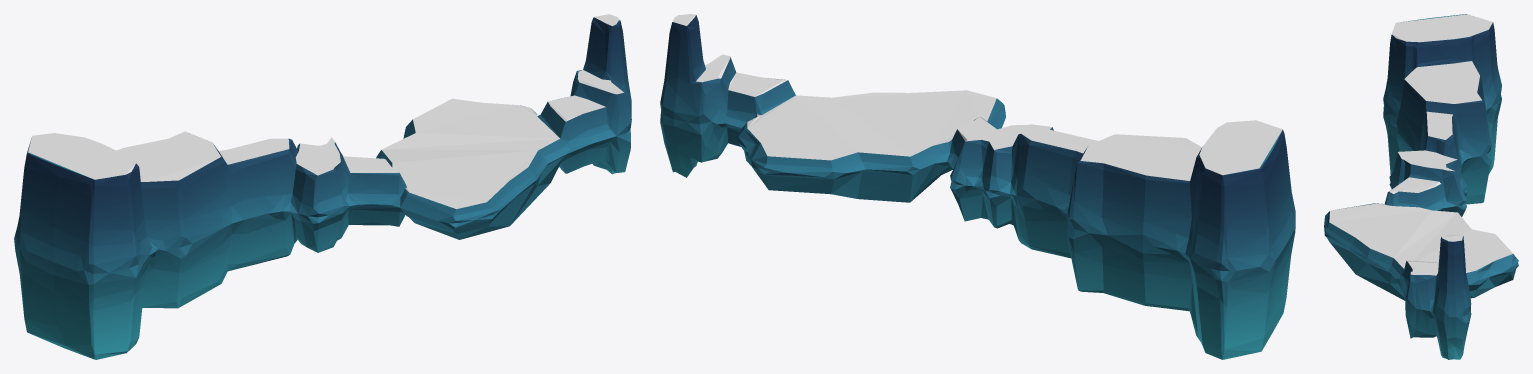
File: MOD_Level1.fbx
The picture shows the model from 3 angles, left to right: view 1: azimuth 30°, elevation 25°; view 2: azimuth 150°, elevation 25°; view 3: azimuth 270°, elevation 25°; orthographic projection. The views are drawn at different scales.
Visible parts, largest first — view 1: MOD_Level1; view 2: MOD_Level1; view 3: MOD_Level1.
Boxes of the visible parts, <box> form: MOD_Level1: <box>14,14,631,359</box>; MOD_Level1: <box>660,14,1295,359</box>; MOD_Level1: <box>1324,14,1518,359</box>.
Size of the model in its own units: 6.83 by 1.96 by 2.38.
Materials: 2 (1 with a texture image).
